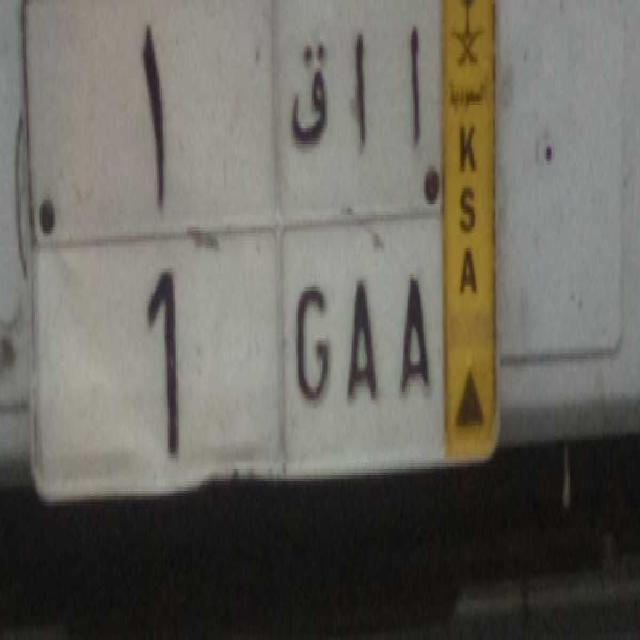license_plate: (33, 214, 449, 505)
